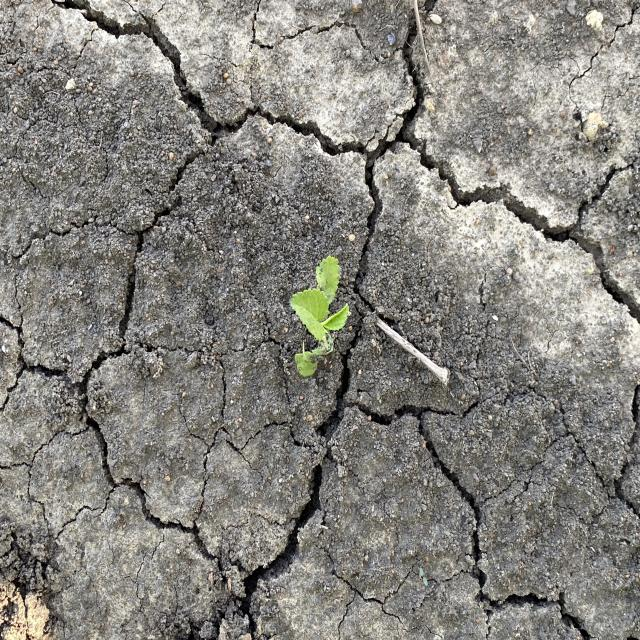PricklySida: (285, 252, 359, 381)
